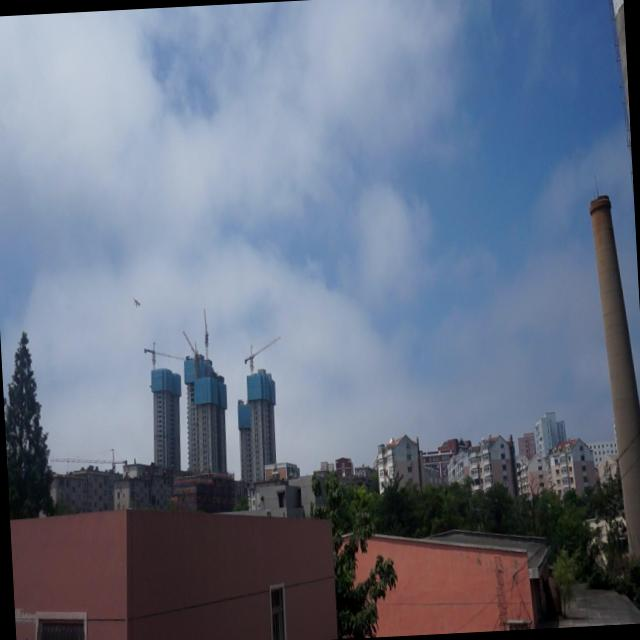drone: (134, 296, 141, 310)
